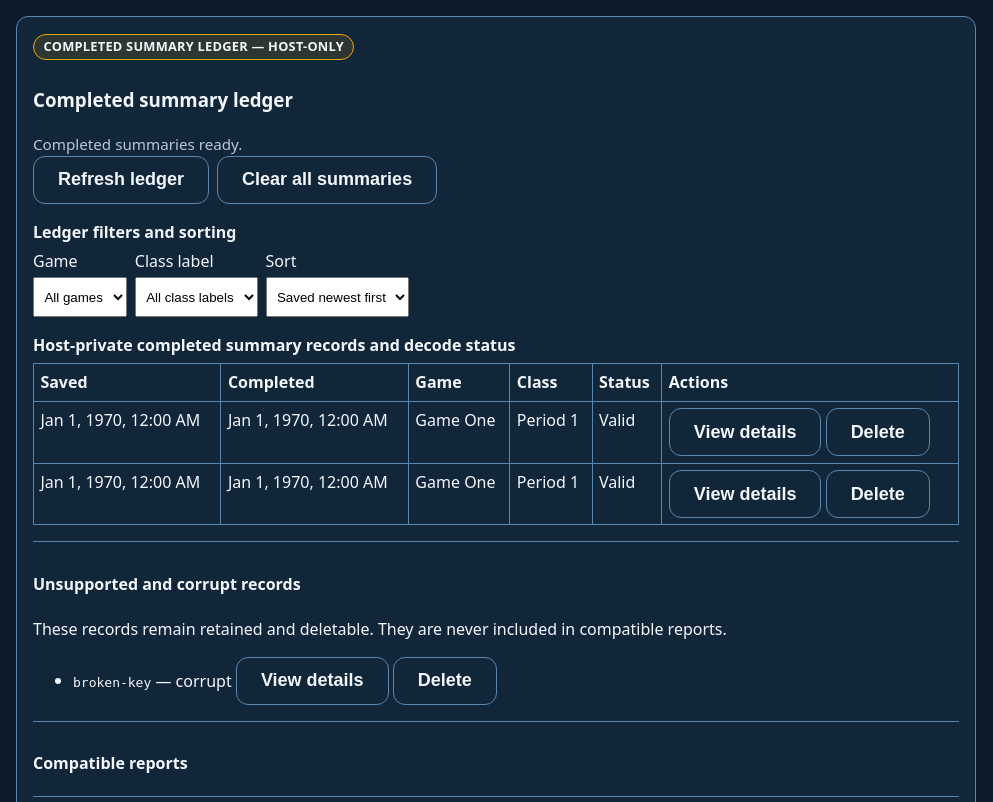
it: CompletedSummaryLedgerPanel › keeps incompatible profiles separated after filtering and shows quarantine while filters are active
The image size is (993, 802).
Select "Period 1" in the dropdown named "filter by class label" at (196, 298), box [135,278,258,318]
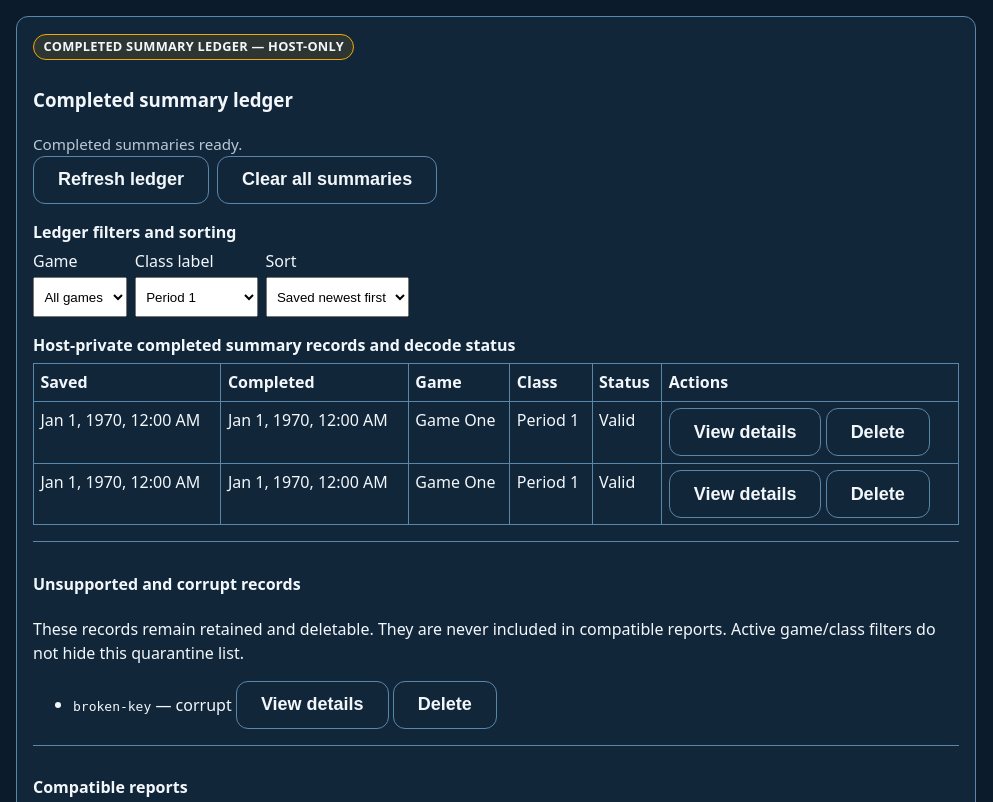
Expected: the element with test id "ledger-quarantine" shows "broken-key", [73,698,151,714]
Expected: the element with test id "ledger-quarantine" shows "do not hide this quarantine", [33,618,936,664]
